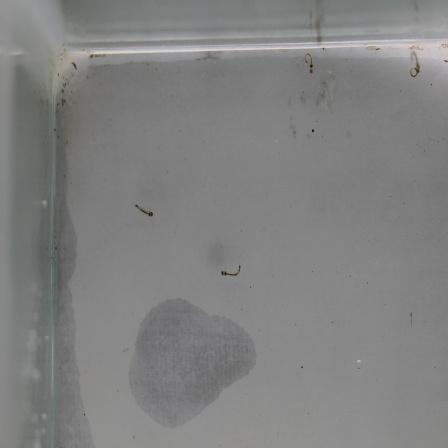Jentik-Nyamuk: (130, 198, 159, 220), (406, 59, 425, 86), (217, 262, 243, 281), (302, 49, 317, 77)
